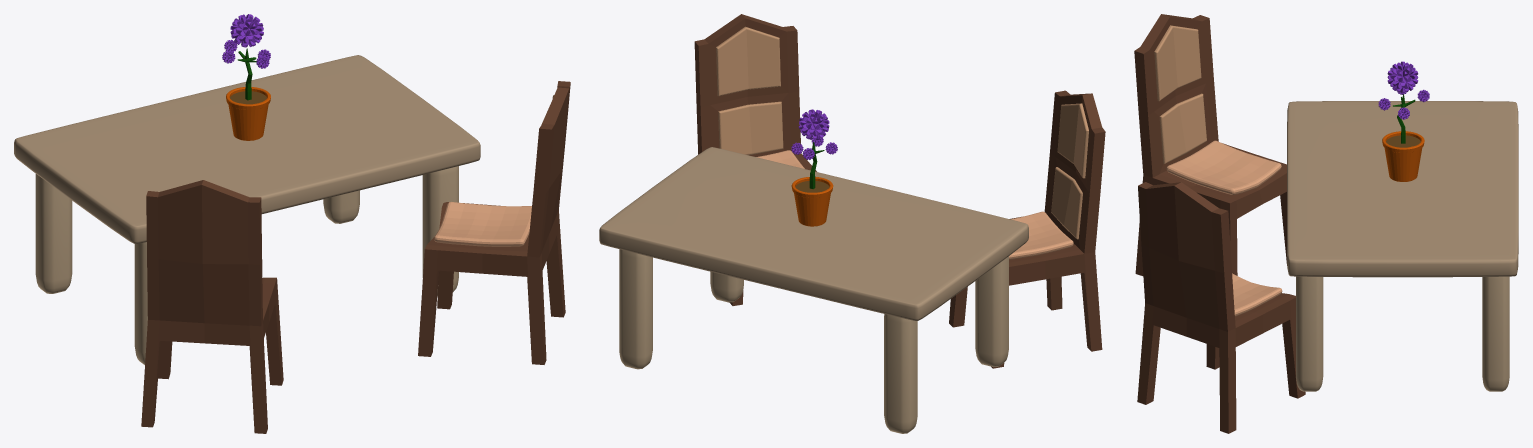
File: d-moebel-komp-1.glb
3 views of the same model, side by side, from view 1: azimuth 30°, elevation 25°; view 2: azimuth 150°, elevation 25°; view 3: azimuth 270°, elevation 25° (orthographic). The views are drawn at different scales.
Visible parts, largest first — view 1: Deko_Komp1; view 2: Deko_Komp1; view 3: Deko_Komp1.
Boxes of the visible parts, bbox=[...] form: Deko_Komp1: bbox=[14, 14, 570, 433]; Deko_Komp1: bbox=[599, 14, 1105, 433]; Deko_Komp1: bbox=[1134, 14, 1518, 433].
Bounding box in the file's own units: 2.23 × 1.39 × 1.81.
Materials: 4 (2 with a texture image).
